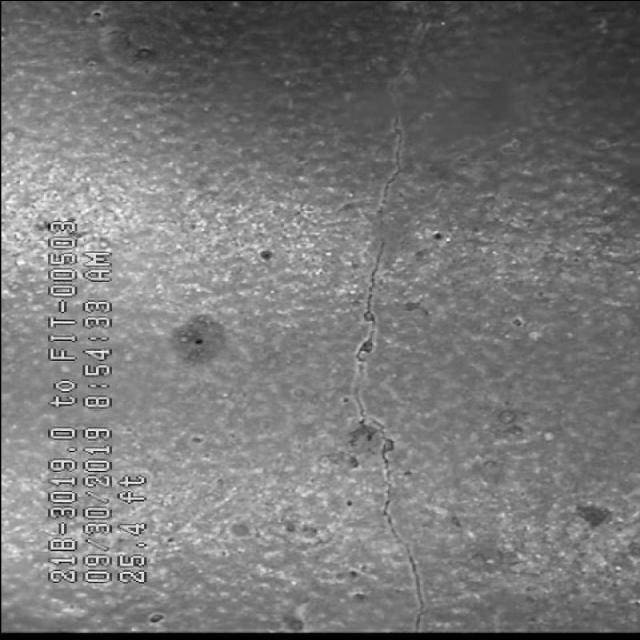Crack: (284, 4, 488, 612)
